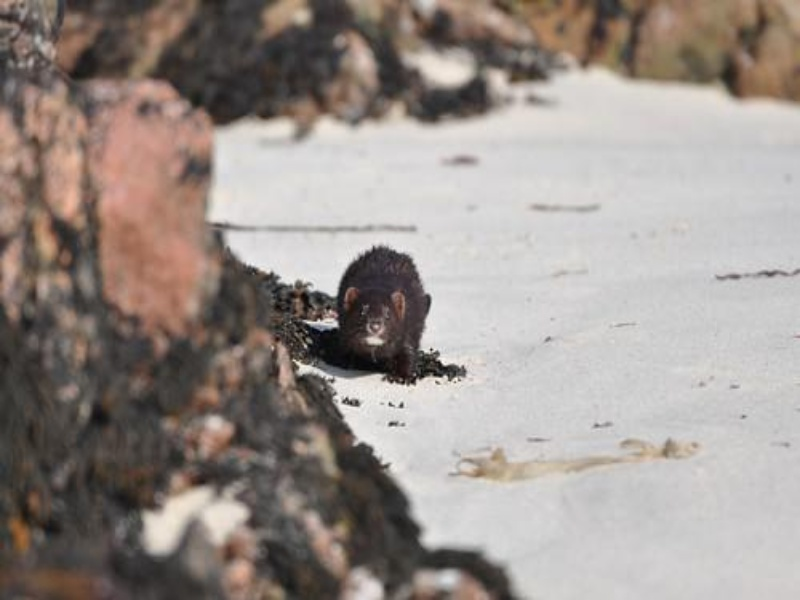minkish: (333, 245, 432, 388)
